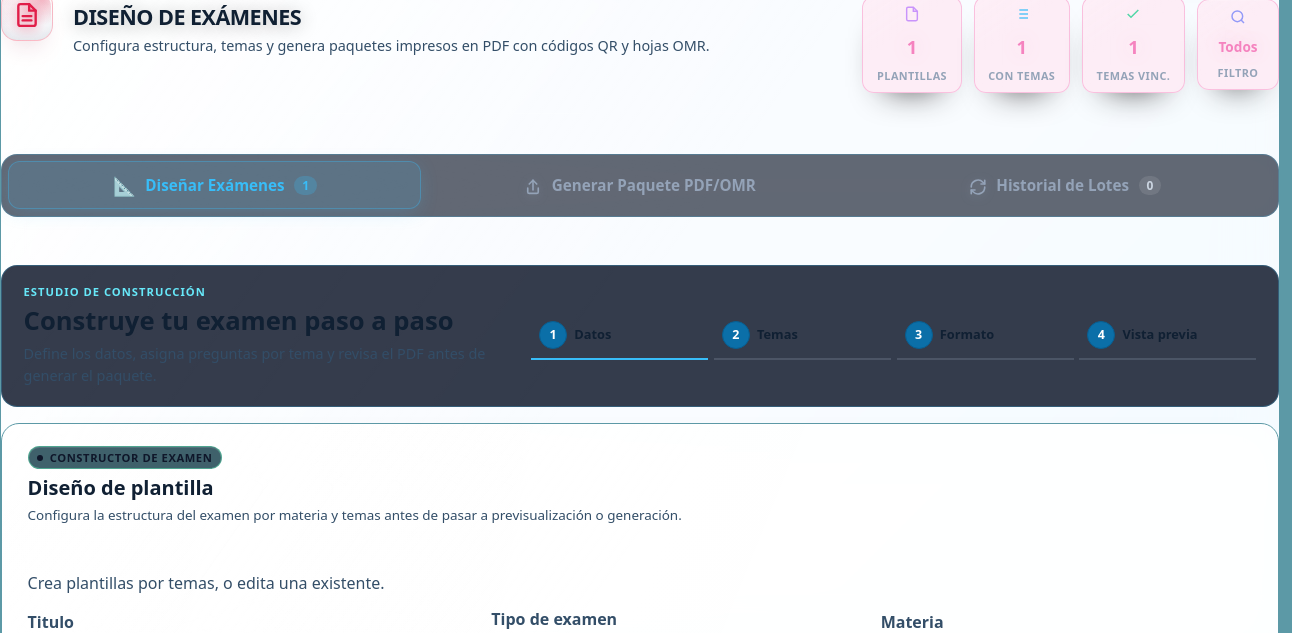
Test case: plantillas refactor y navegación por pestañas (SPEC-034) › permite seleccionar destinatarios al elegir el tipo extraordinario
The image size is (1292, 633).
Click the tab "Generar Paquete PDF/OMR" at (640, 185), box [434,161,847,209]
(page scrolled)
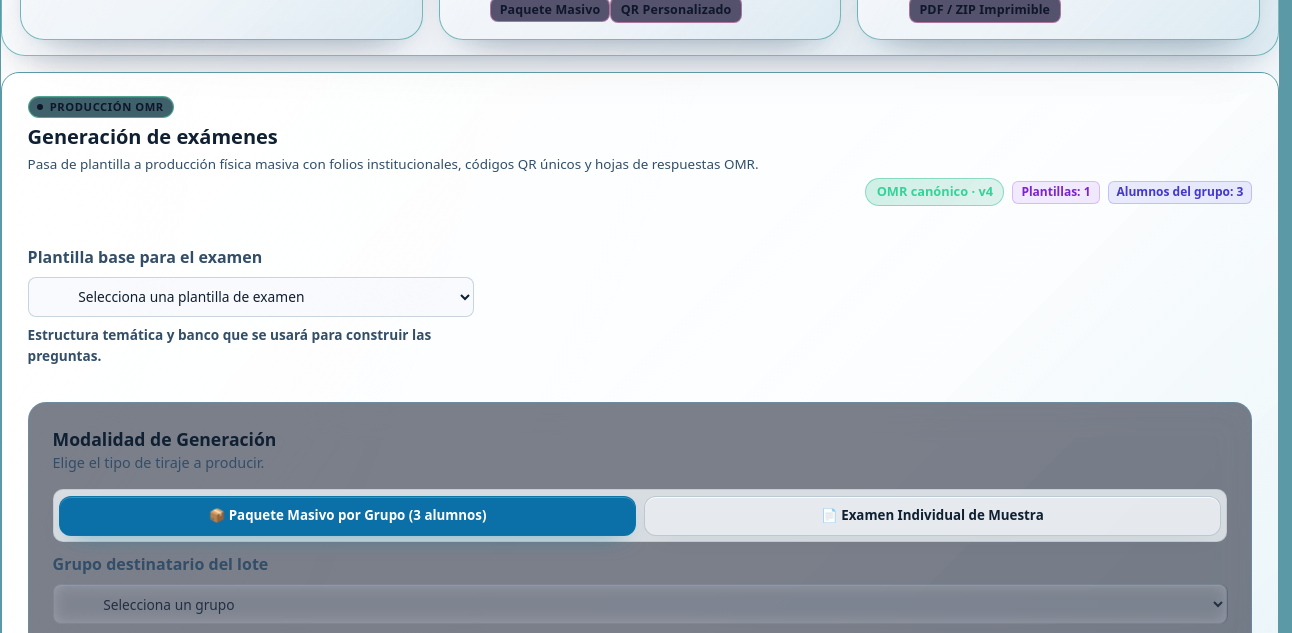
Select "Periodo 1 · Parcial Algebra (ID: pla-1)" in the 1st dropdown at (251, 297), box [28,277,474,317]
(page scrolled)
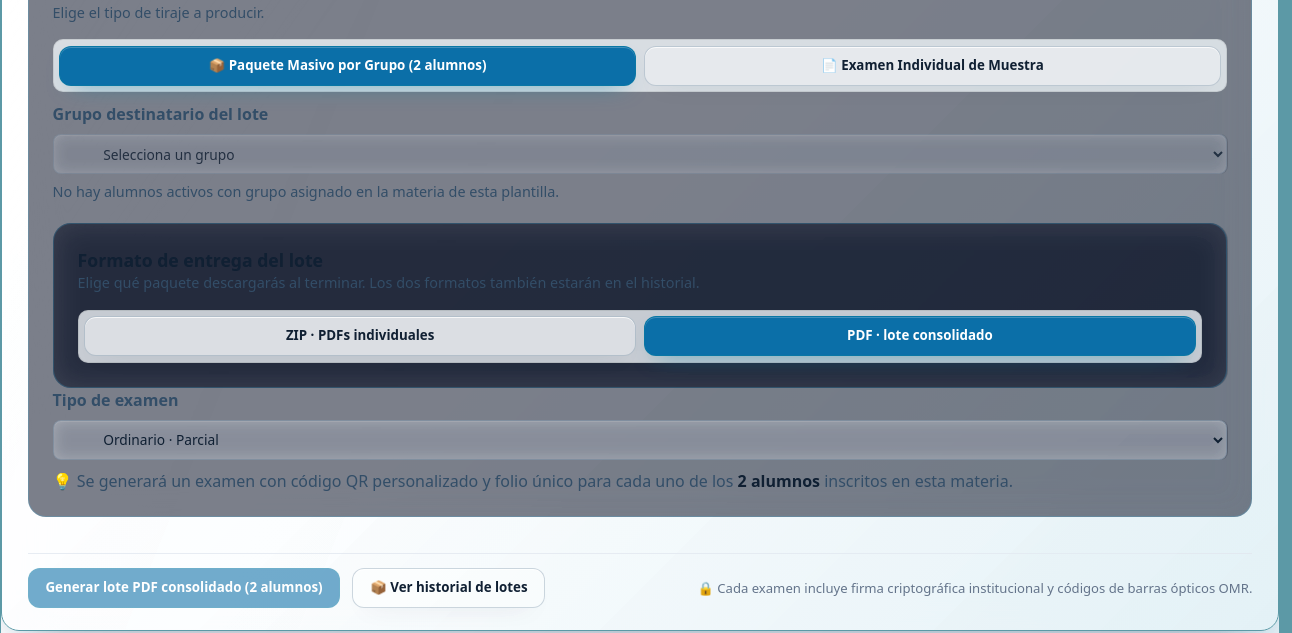
Select "Extraordinario" in the dropdown labelled "Tipo de examen" at (640, 440), box [53,420,1227,460]
(page scrolled)
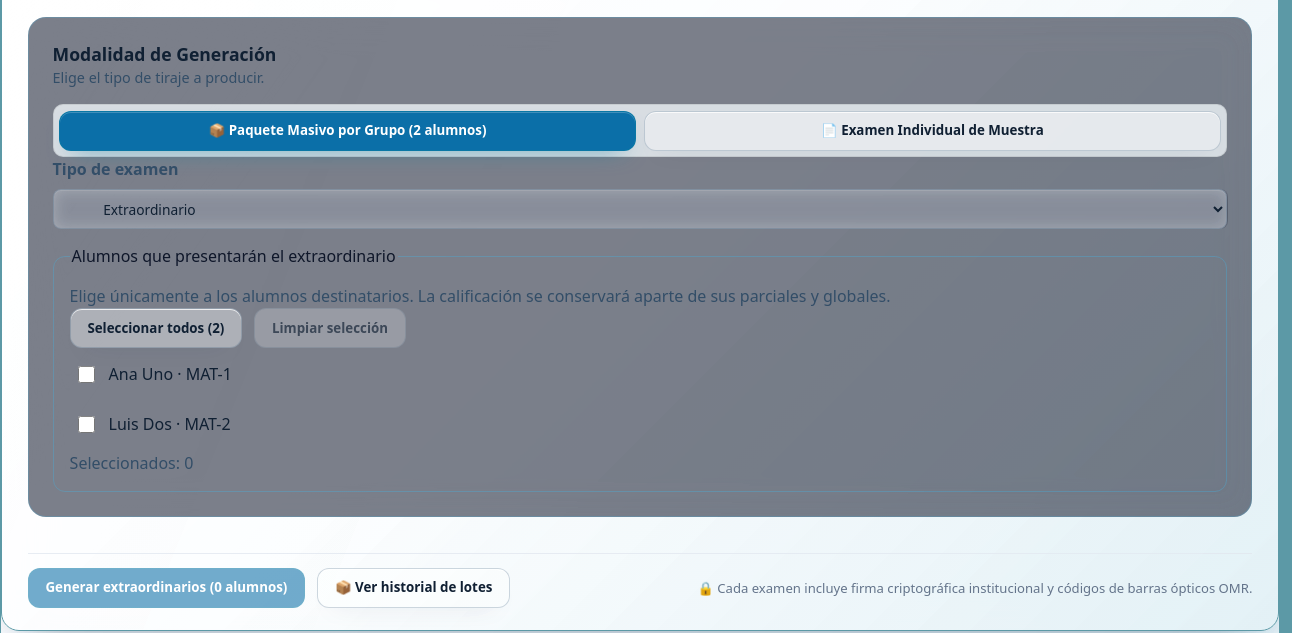
expect the element "Alumnos que presentarán el extraordinario" is shown: met, box [53,245,1227,492]
expect the checkbox labelled "Ana Uno · MAT-1" is shown: met
expect the checkbox labelled "Luis Dos · MAT-2" is shown: met, box [78,416,95,434]
Click the checkbox labelled "Ana Uno · MAT-1" at (86, 374), box [78,366,95,383]
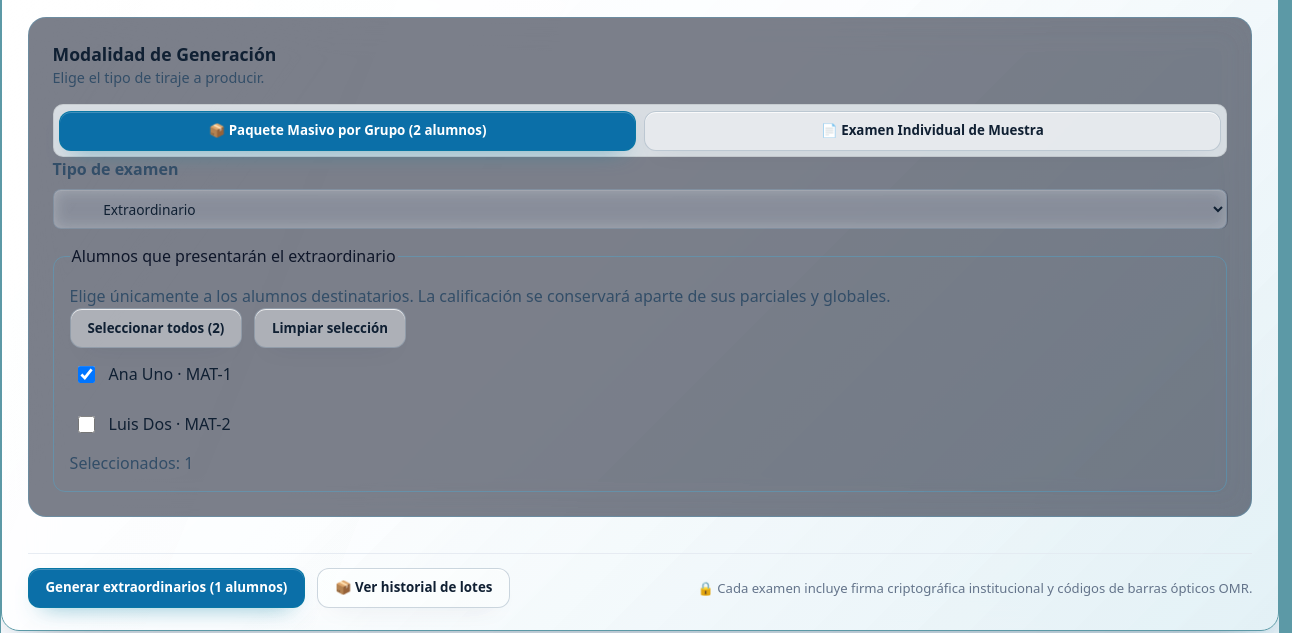
expect the text "Seleccionados: 1" is shown: met, box [70,452,193,474]
expect the button "Generar extraordinarios (1 alumnos)" is enabled: met, box [28,568,305,608]
